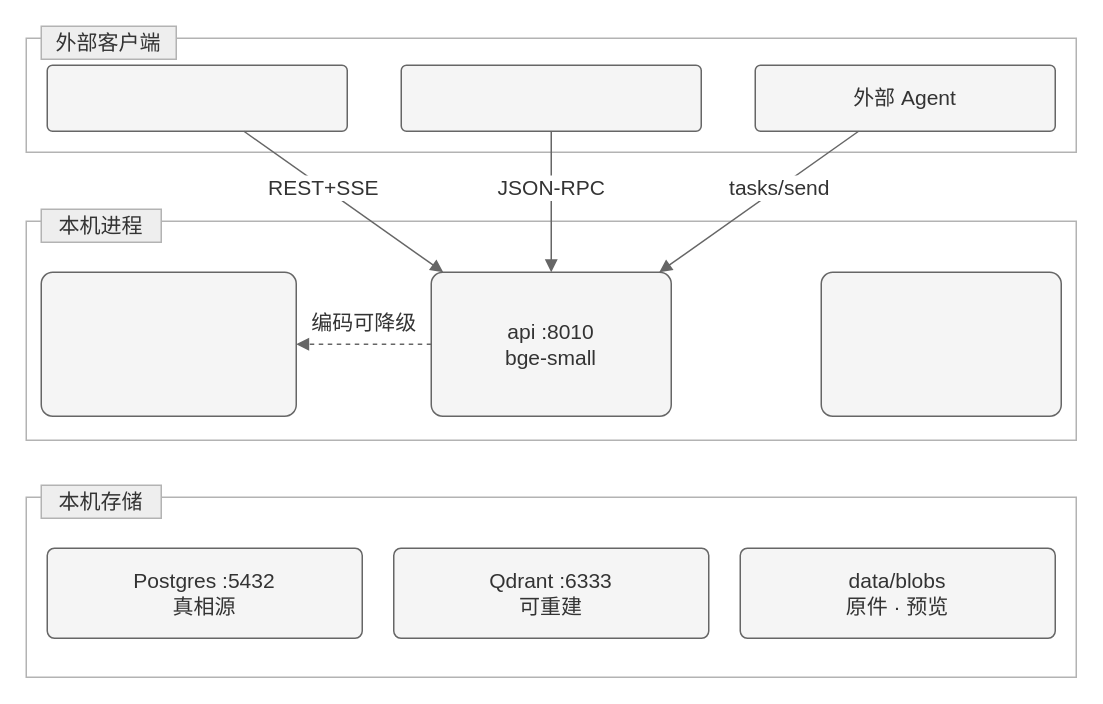
The diagram is 1103 pixels wide and 704 high, and some of its shapes have lost their labels. Here are the shapes that lost their labels. From the top down, the box of each, then its label:
(46, 64, 347, 131): 浏览器 SPA
(400, 64, 701, 131): AI 客户端
(40, 271, 296, 416): visual_service colSmol · 只绑 127.0.0.1
(820, 271, 1061, 416): worker colSmol（可关）
